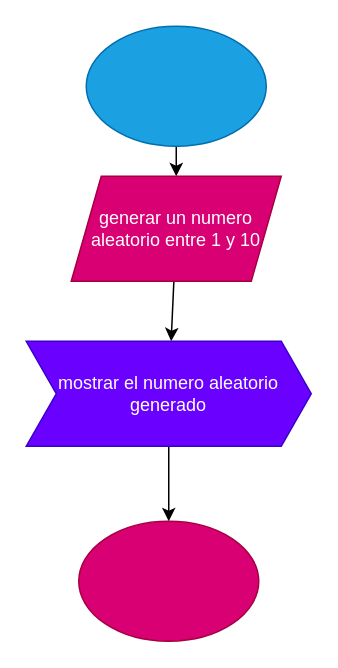
The diagram is 338 pixels wide and 668 high, and some of its shapes have lost their labels. Here are the shapes that lost their labels. From the top down, the centre of each, then its label:
(175,85): inico
(168,580): fin
